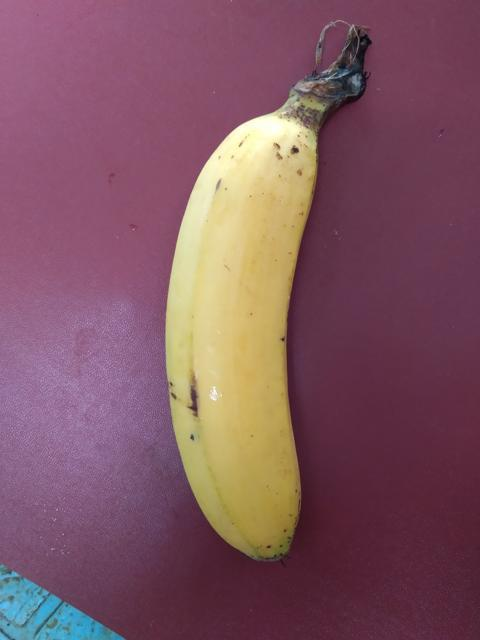freshripe: (146, 99, 376, 607)
